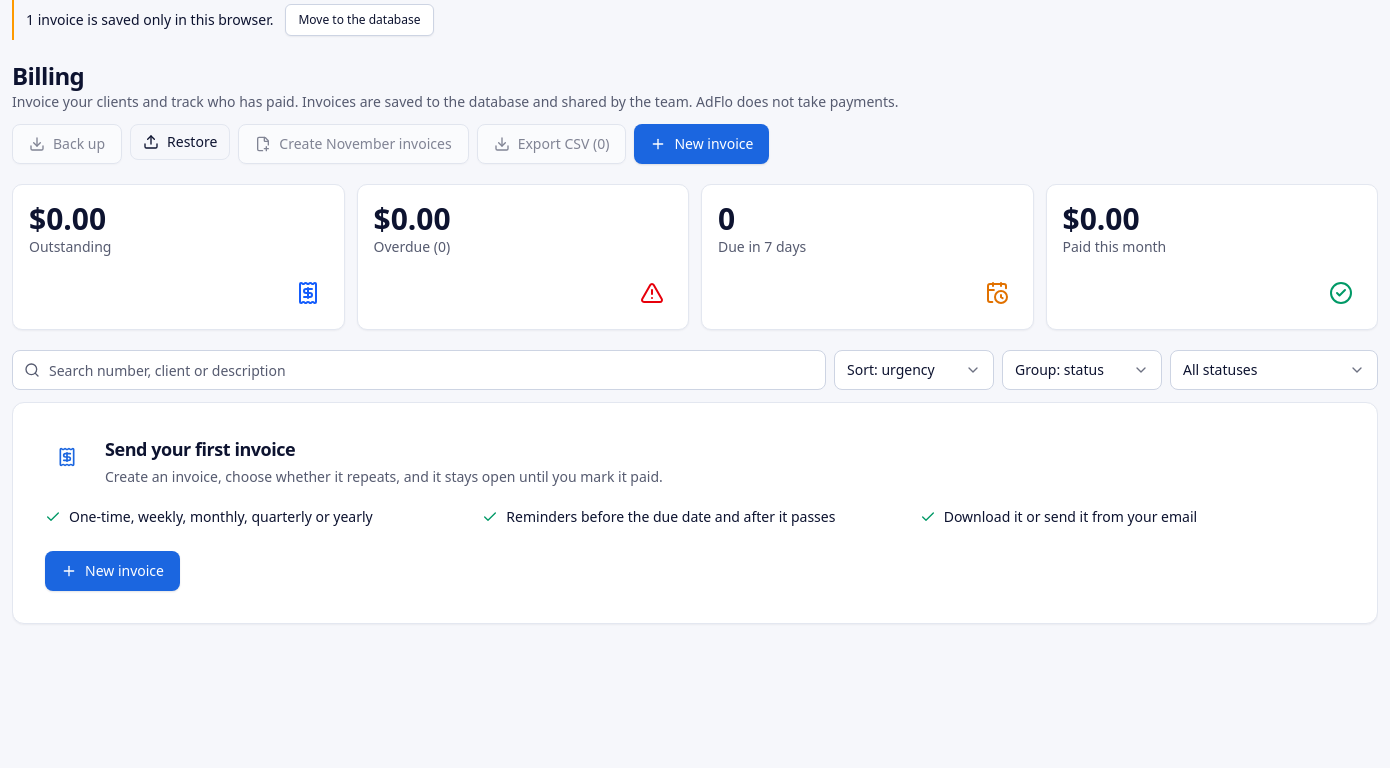
it: BillingPage with the database › keeps the browser copy when moving fails
The width and height of the screenshot is (1390, 768).
Click the button "Move to the database" at (360, 20), box [286,4,434,36]
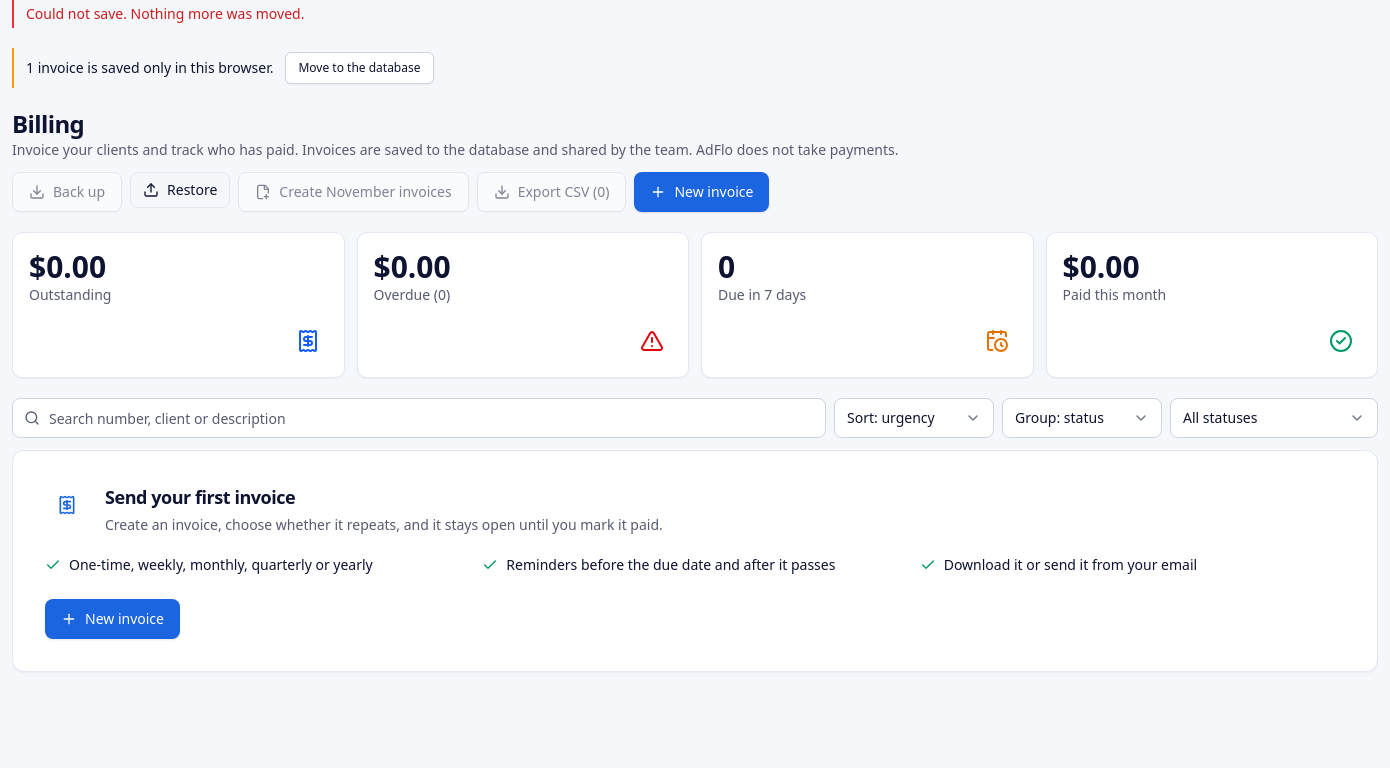
Now the message shows "Nothing more was moved", box [26,4,304,23]
